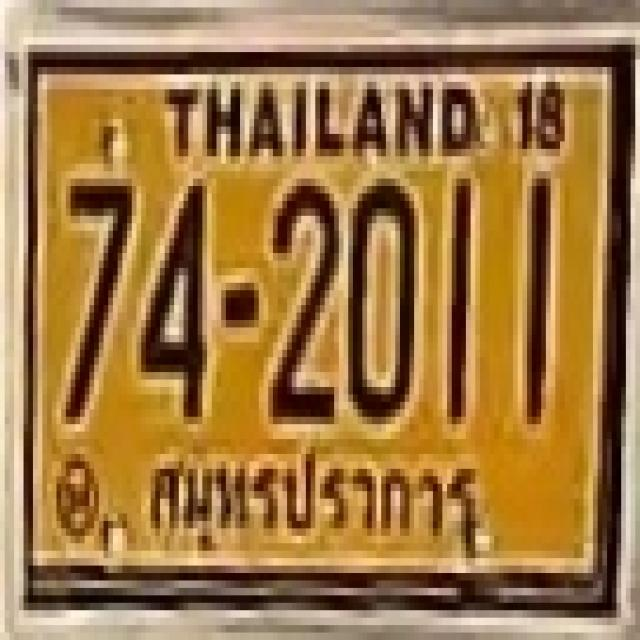0: (344, 175, 414, 413)
1: (522, 171, 546, 417), (445, 175, 468, 413)
2: (268, 178, 337, 430)
4: (136, 175, 208, 425)
7: (64, 175, 130, 413)
SPK: (137, 434, 488, 553)
